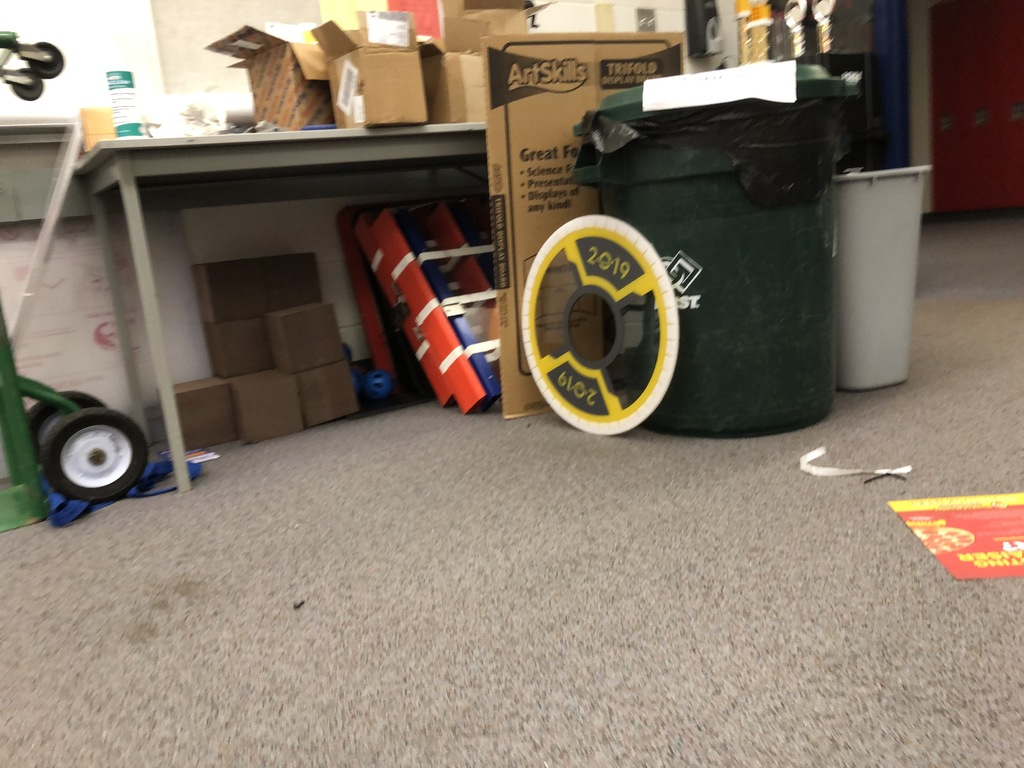hatch_panel: (503, 203, 699, 458)
